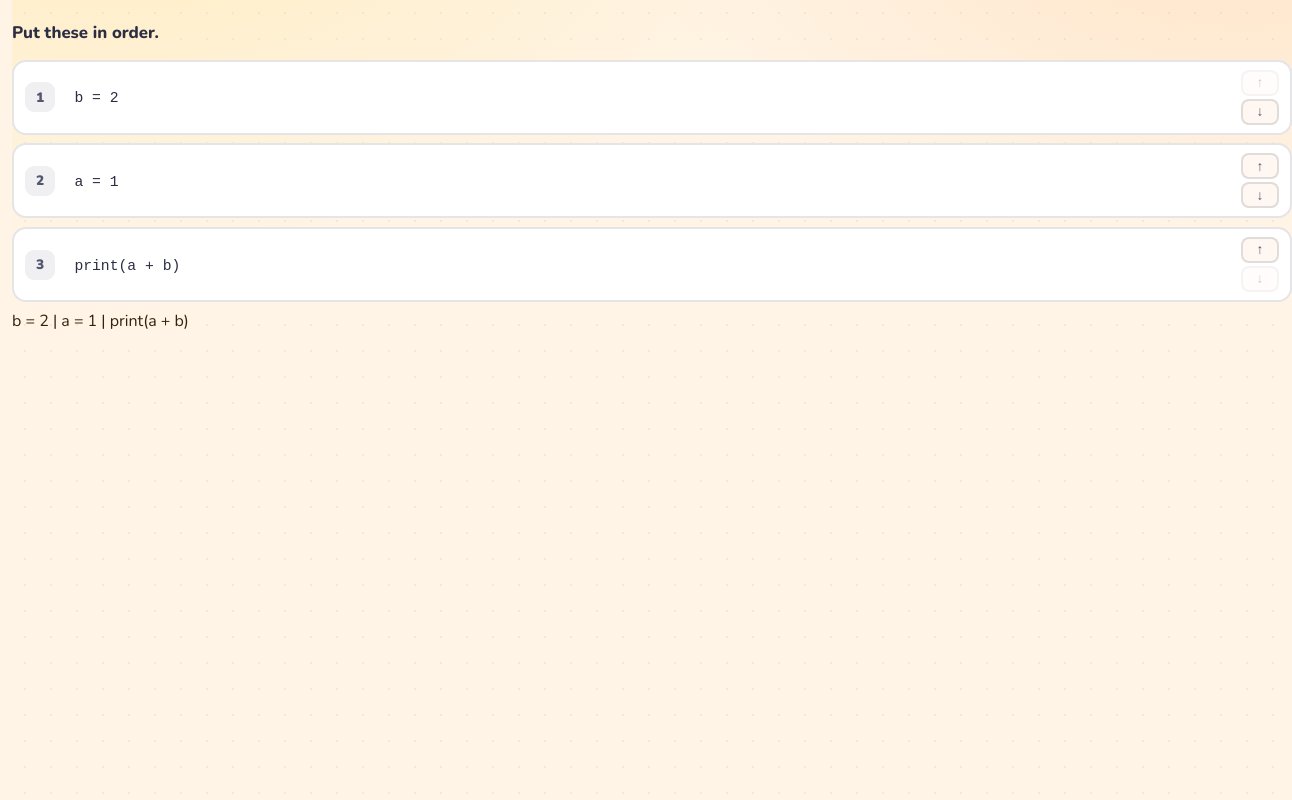
OrderSteps › moving a line up reorders the list and grades correct
The image size is (1292, 800).
Step 1. Click the button named "Move line 2 up" → (1260, 166), box [1241,153,1279,179]
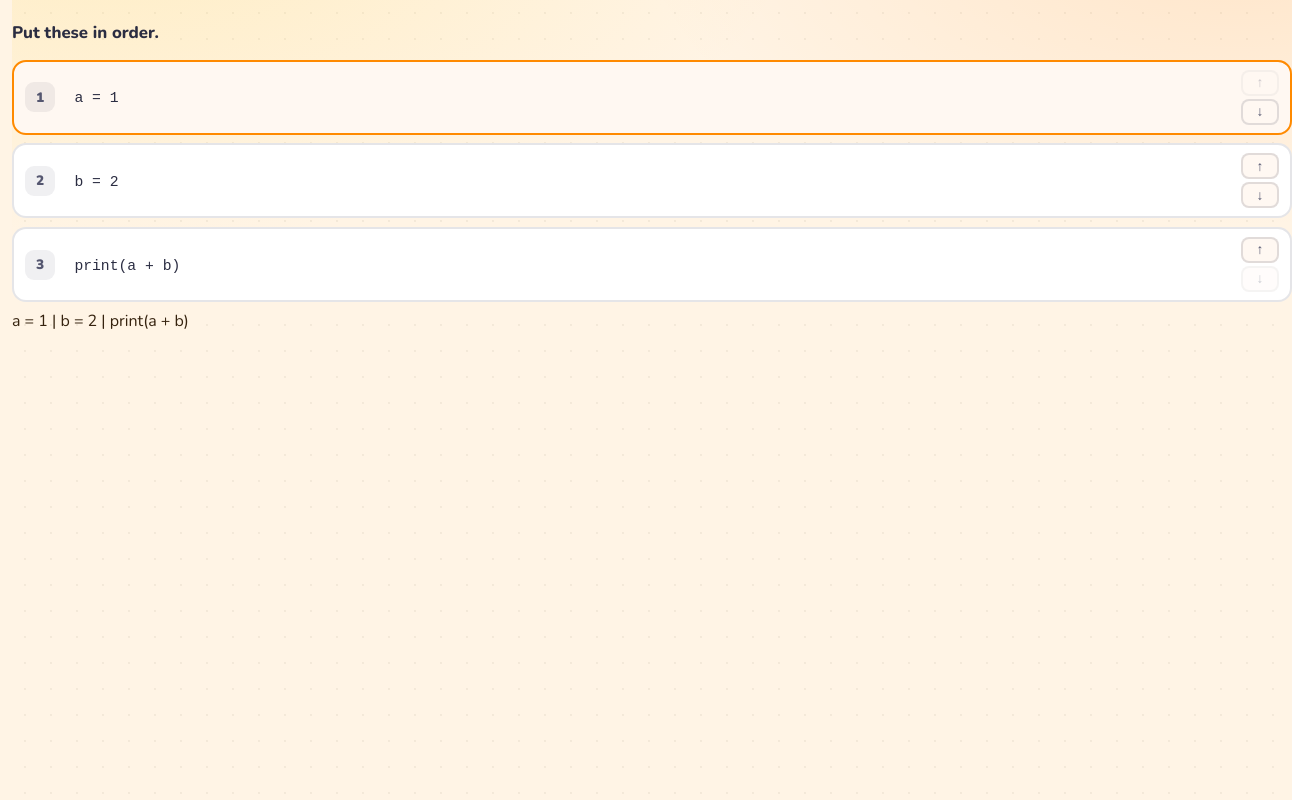
expect the text with test id "state" reads "a = 1 | b = 2 | print(a + b)": met, box [12,310,189,332]
